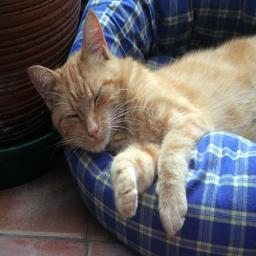catnose: (88, 126, 100, 141)
